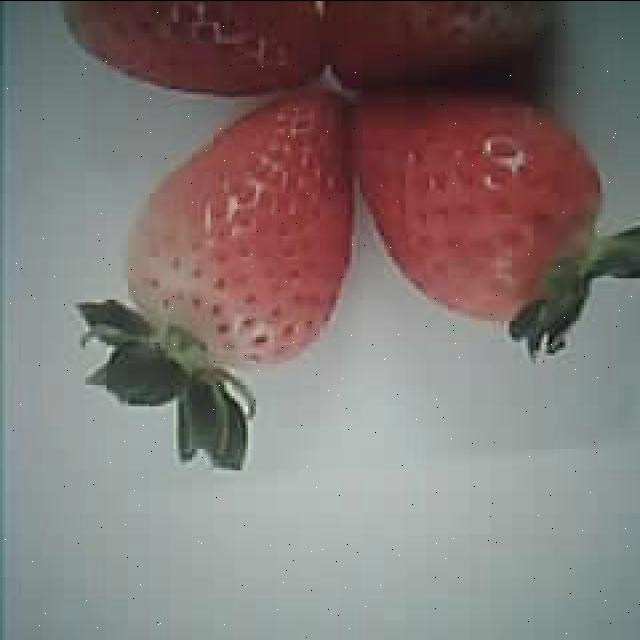strawberry: (128, 92, 352, 370), (355, 86, 598, 323)
